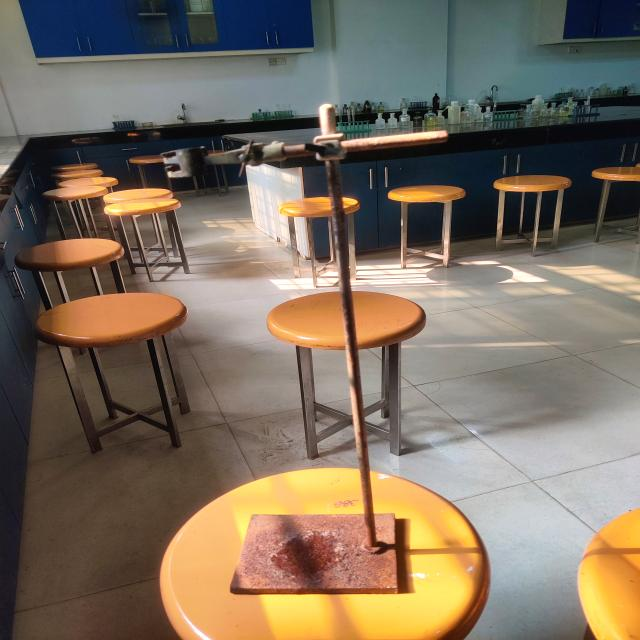Burette_Stands: (117, 99, 495, 624)
